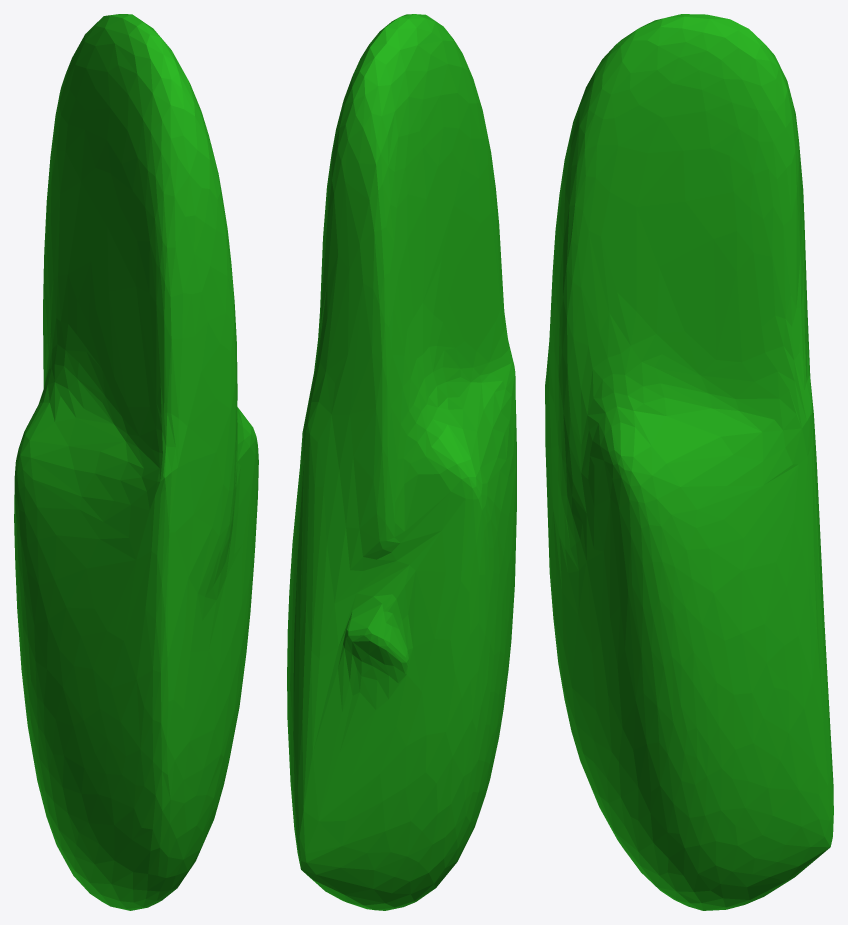
3 renders of one model, left to right at view 1: azimuth 30°, elevation 25°; view 2: azimuth 150°, elevation 25°; view 3: azimuth 270°, elevation 25°, orthographic.
Visible parts, largest first — view 1: 797_Cube.3212; view 2: 797_Cube.3212; view 3: 797_Cube.3212.
Part boxes in pixels (left/top/right/bottom): 797_Cube.3212: left=14, top=14, right=258, bottom=910; 797_Cube.3212: left=287, top=14, right=516, bottom=910; 797_Cube.3212: left=545, top=14, right=833, bottom=910.
Size of the model in its own units: 4.63 by 19.49 by 5.73.
